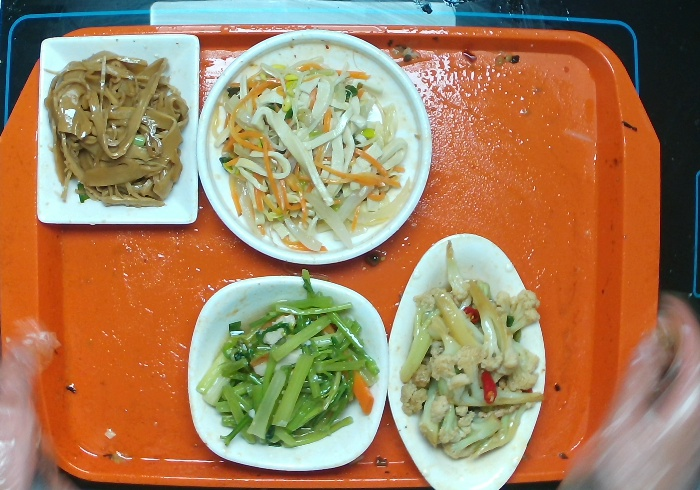HZYJPL-Si_Fang_Die: (32, 31, 203, 230)
HZYJPL-Si_Fang_Yuan_Die: (184, 272, 392, 473)
HZYJPL-Xiao_Yu_Die: (382, 231, 549, 490)
HZYJPL-Xiao_Yuan_Die: (192, 27, 435, 266)
